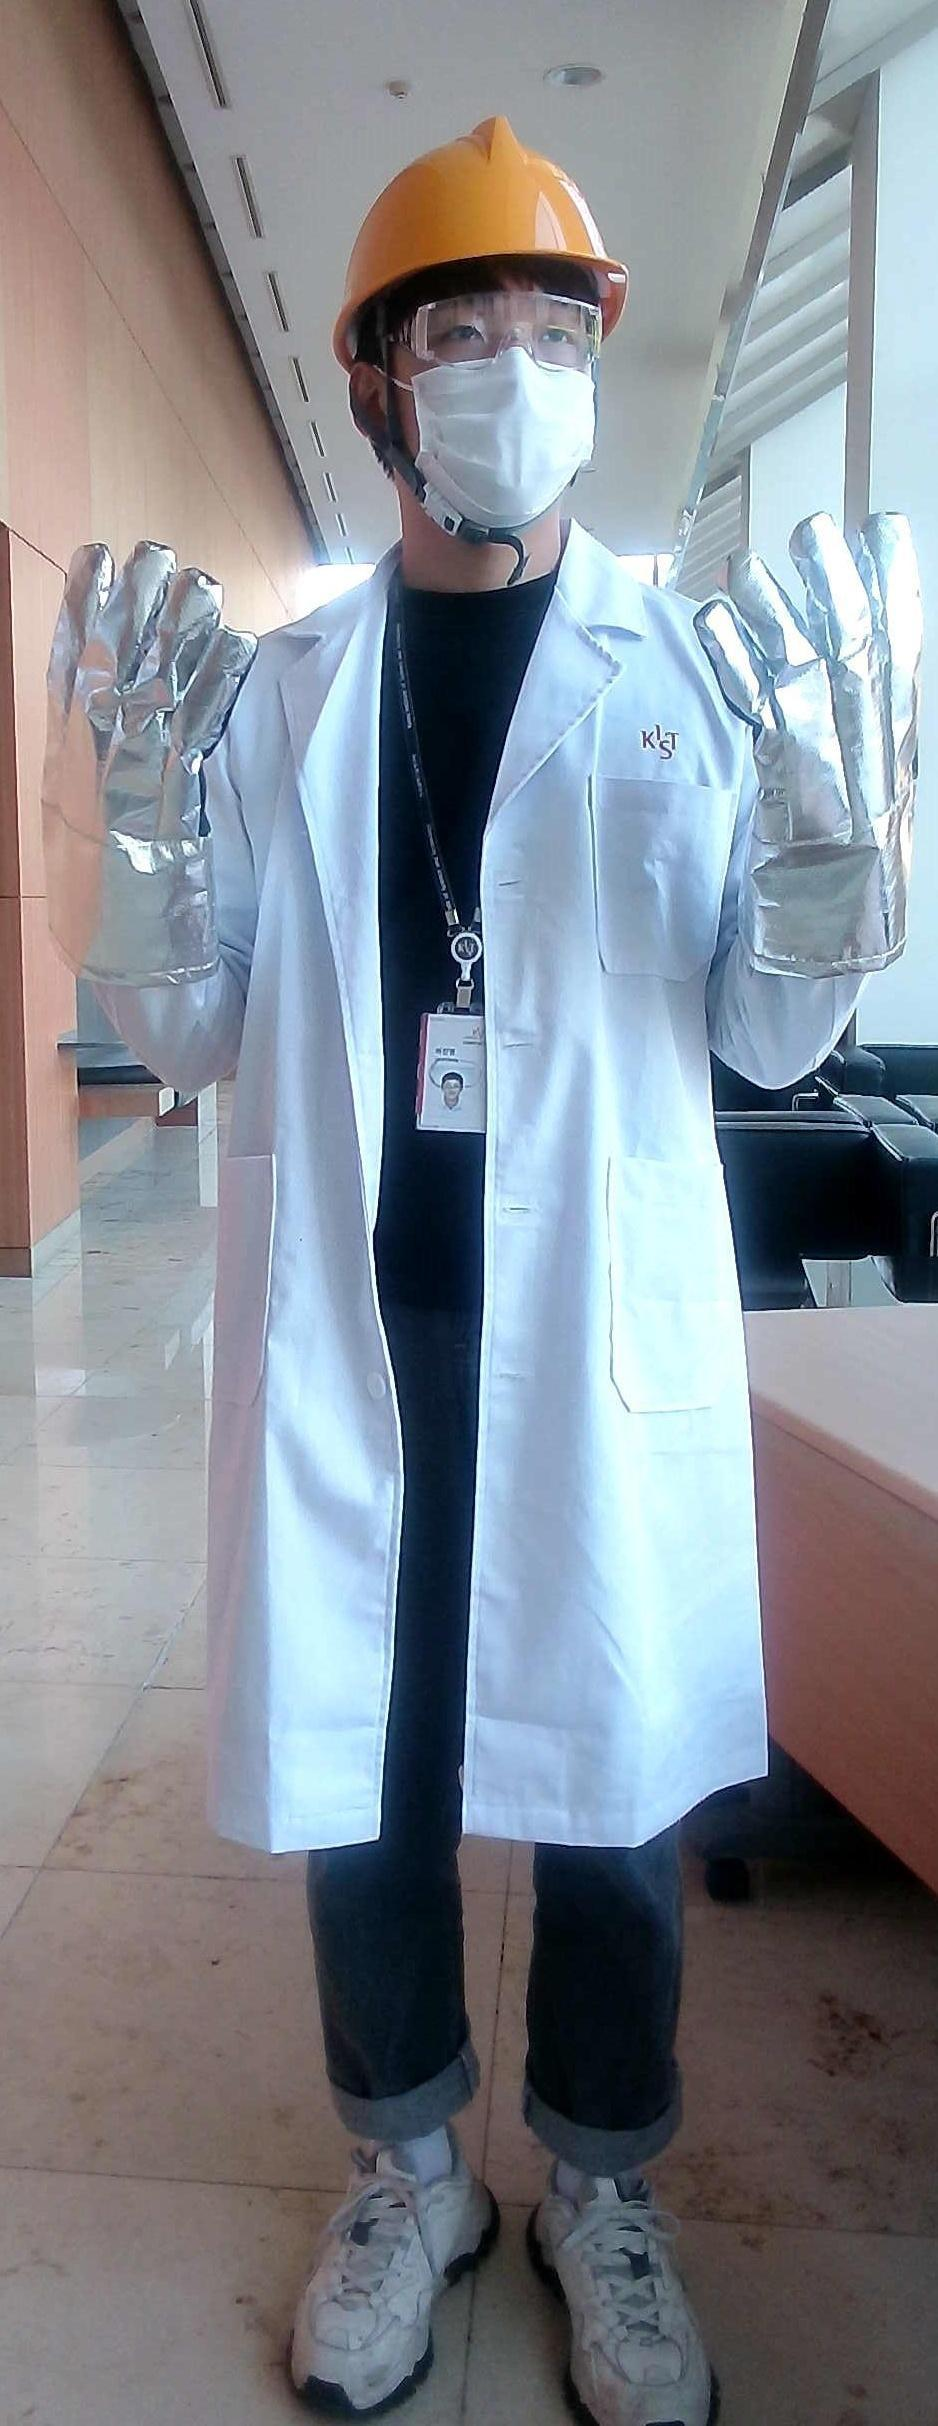lab_coat: (255, 647, 727, 1827)
